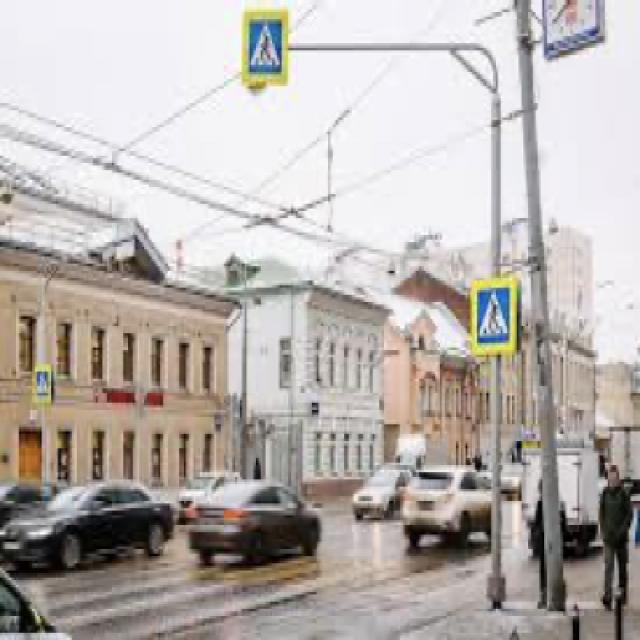crosswalk: (475, 283, 509, 340), (248, 17, 282, 72)
trafficlight: (36, 372, 46, 393)
